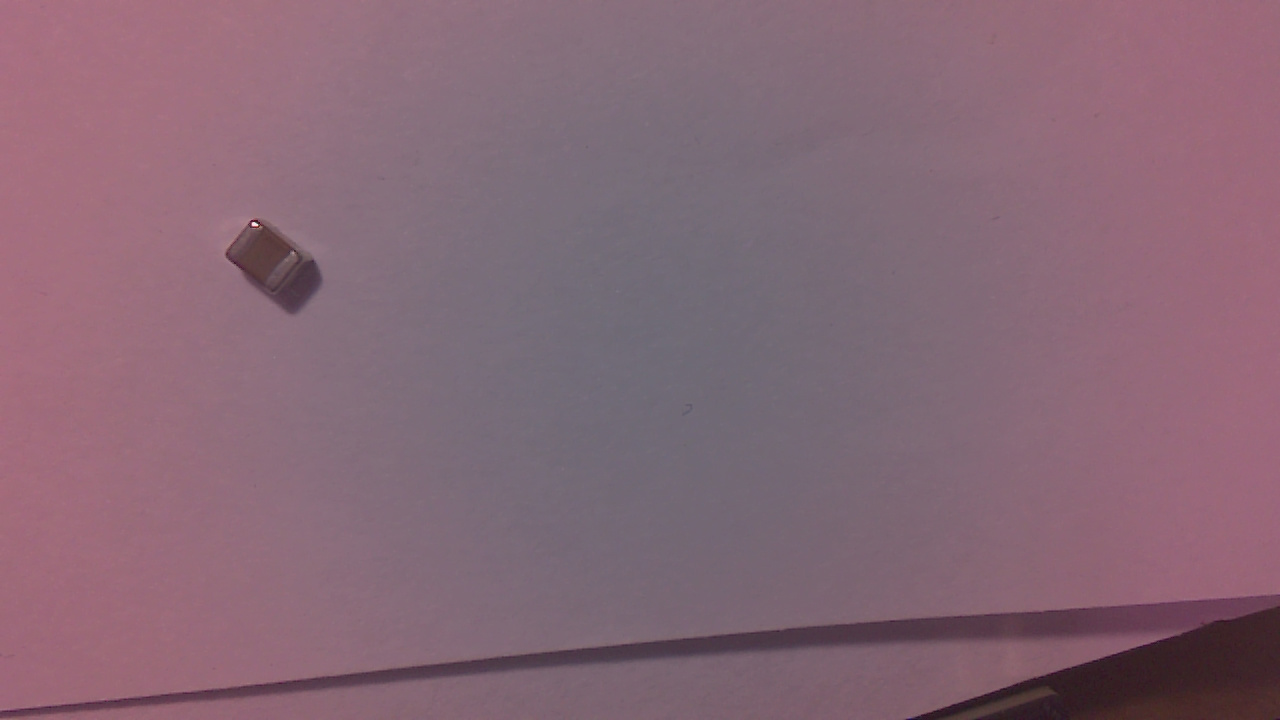Condensator: (235, 221, 323, 304)
